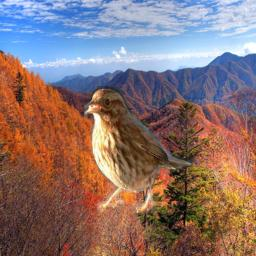Sparrow: (84, 86, 194, 213)
